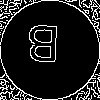B: (25, 25, 61, 72)
